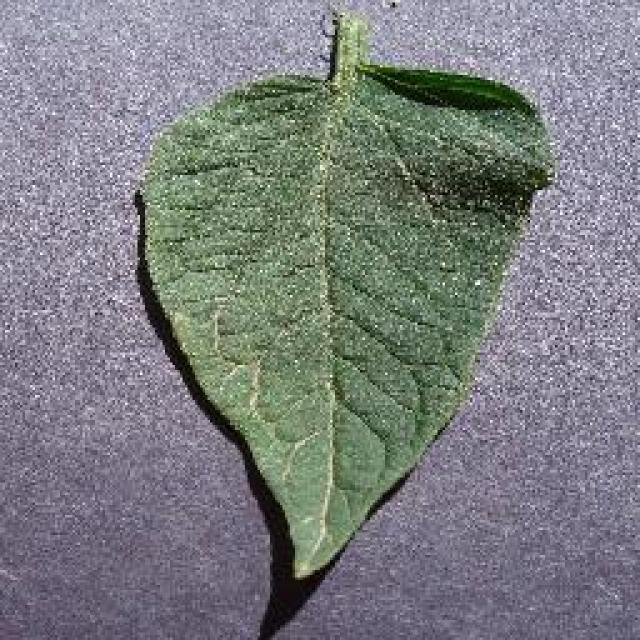Tomato___healthy: (138, 12, 560, 577)
